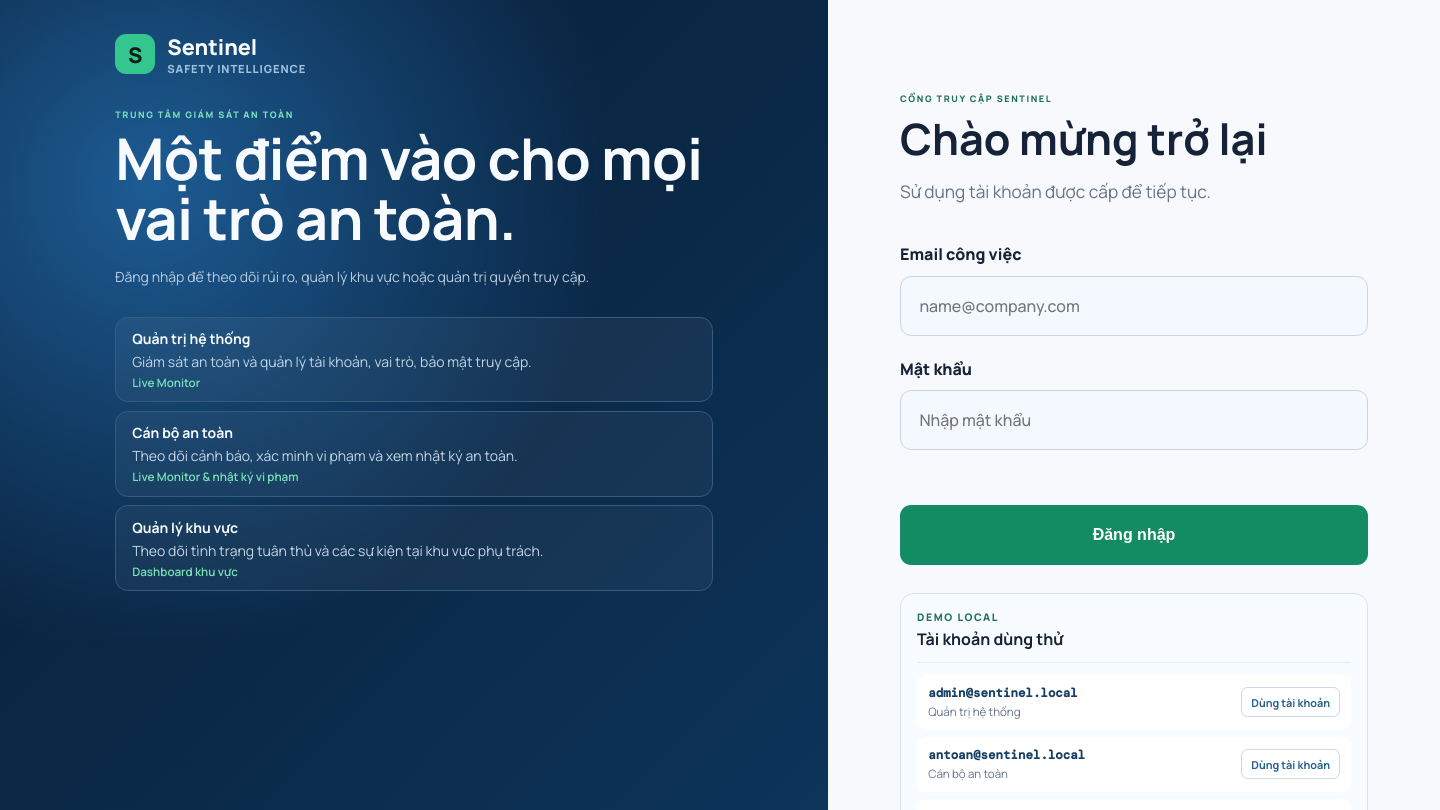
Test case: Sentinel authentication › opens the tabbed system administration page for a system admin
Expected: the button "Đăng nhập" is shown, [900,505,1368,565]
Type "admin@sentinel.local" into the field labelled "Email công việc" at (1134, 306), box [900,276,1368,336]
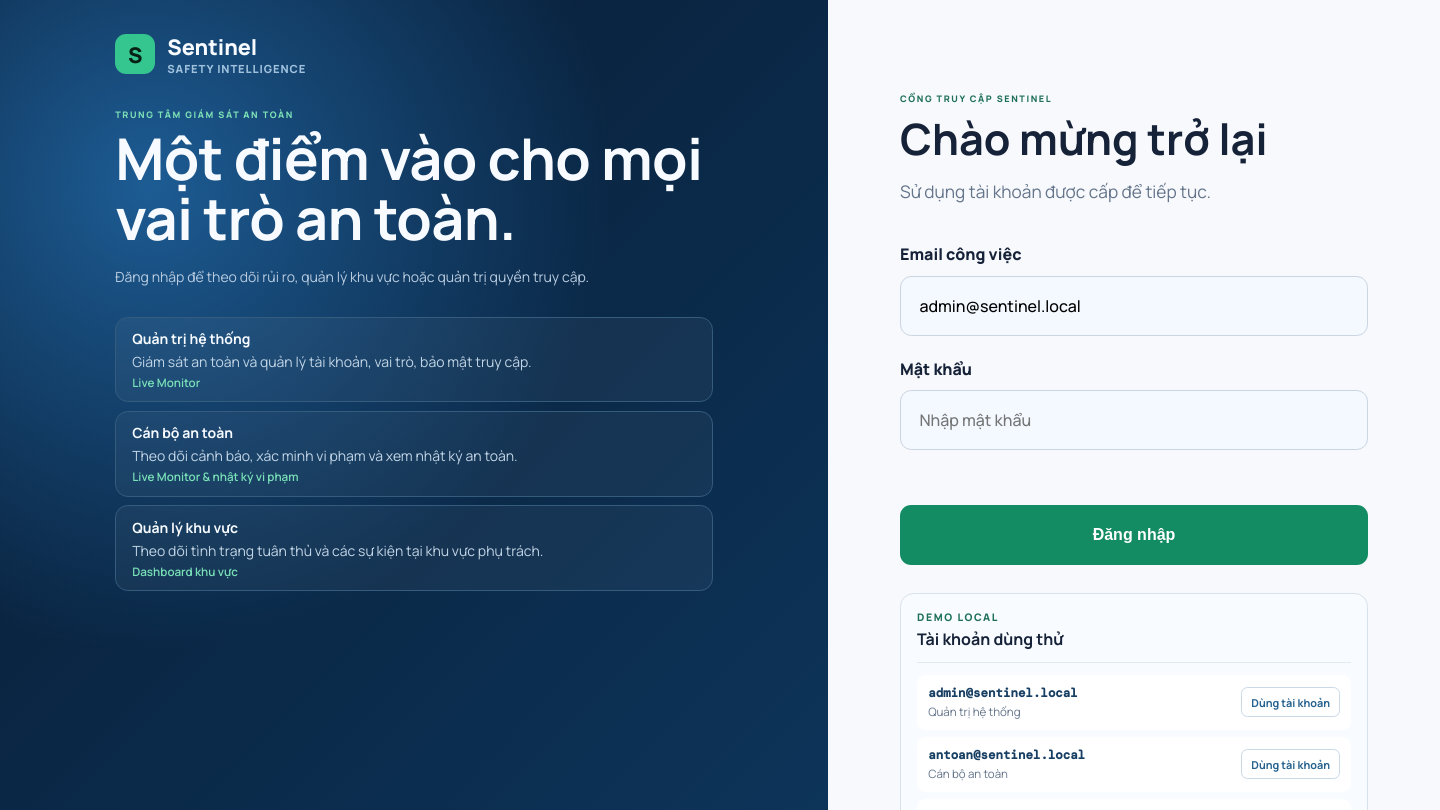
Type "Sentinel123!" into the password field labelled "Mật khẩu" at (1134, 420), box [900,390,1368,450]
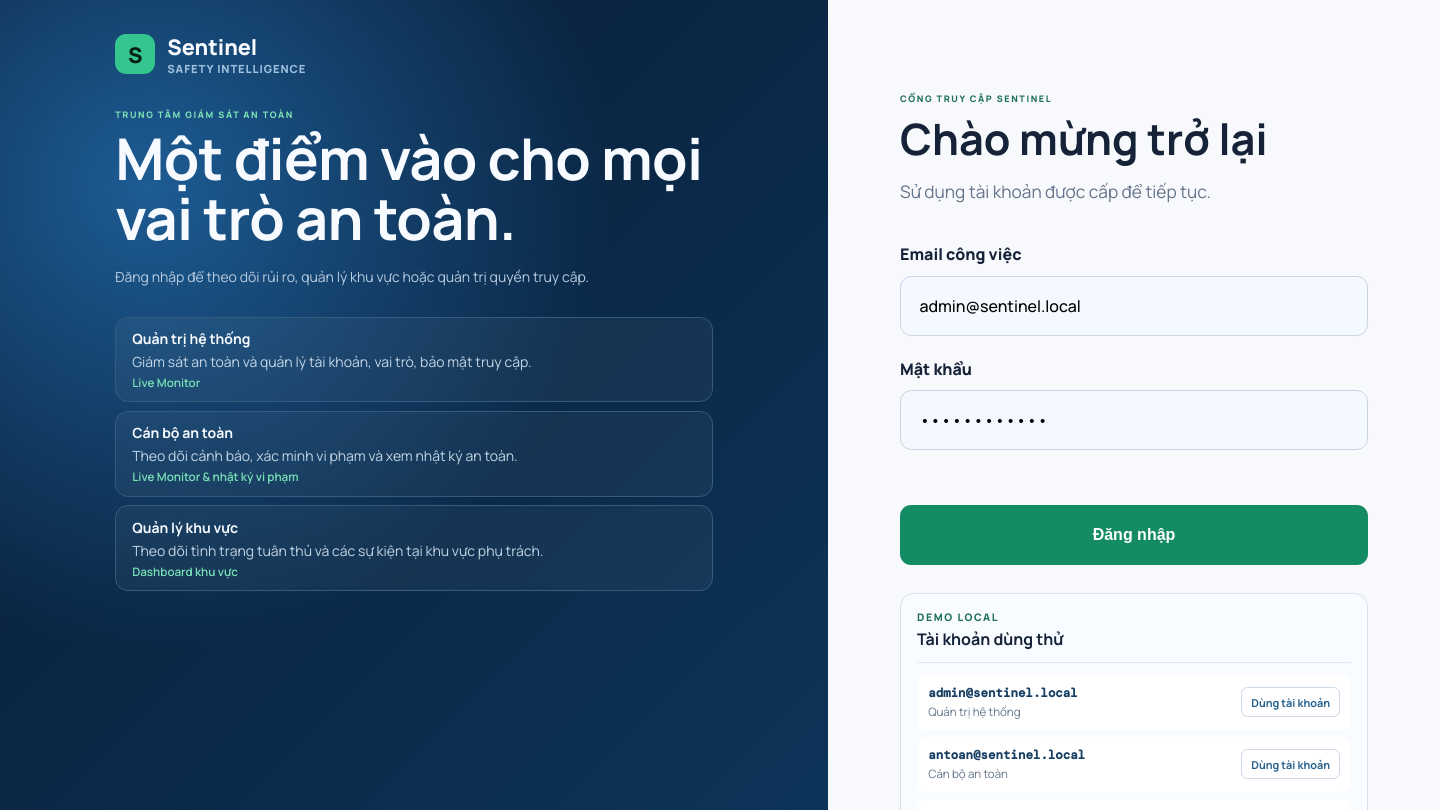
Click the button "Đăng nhập" at (1134, 535), box [900,505,1368,565]
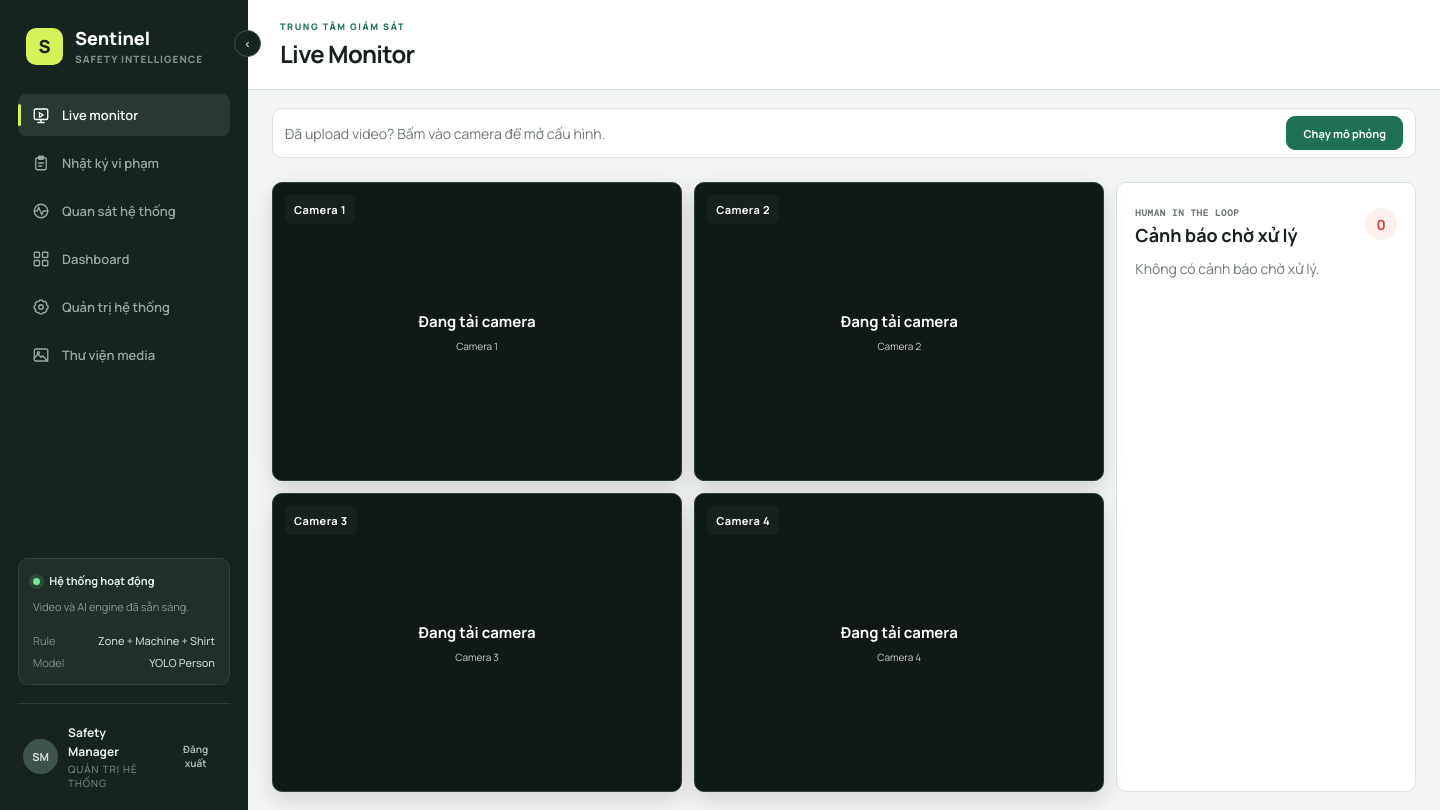
Now the heading "Live Monitor" is shown, box [280,36,414,70]
Now the button "Thư viện media" is shown, box [18,334,230,376]
Now the button "Quan sát hệ thống" is shown, box [18,190,230,232]
Click the button "Quản trị hệ thống" at (124, 307), box [18,286,230,328]
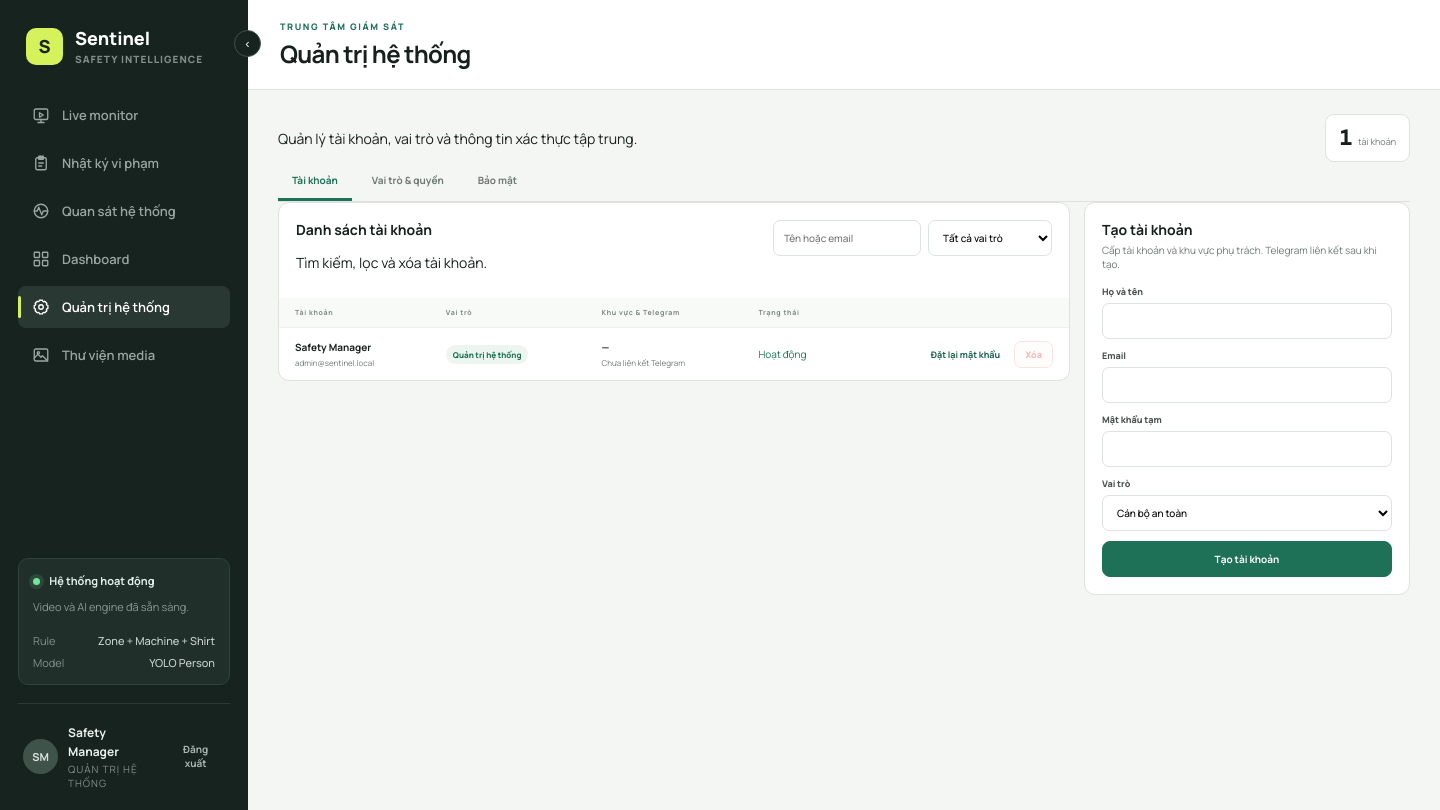
Now the tab "Tài khoản" is shown, box [278,162,352,201]
Now the tab "Vai trò & quyền" is shown, box [358,162,458,201]
Now the tab "Bảo mật" is shown, box [464,162,531,201]
Click the button "Live monitor" at (124, 115), box [18,94,230,136]
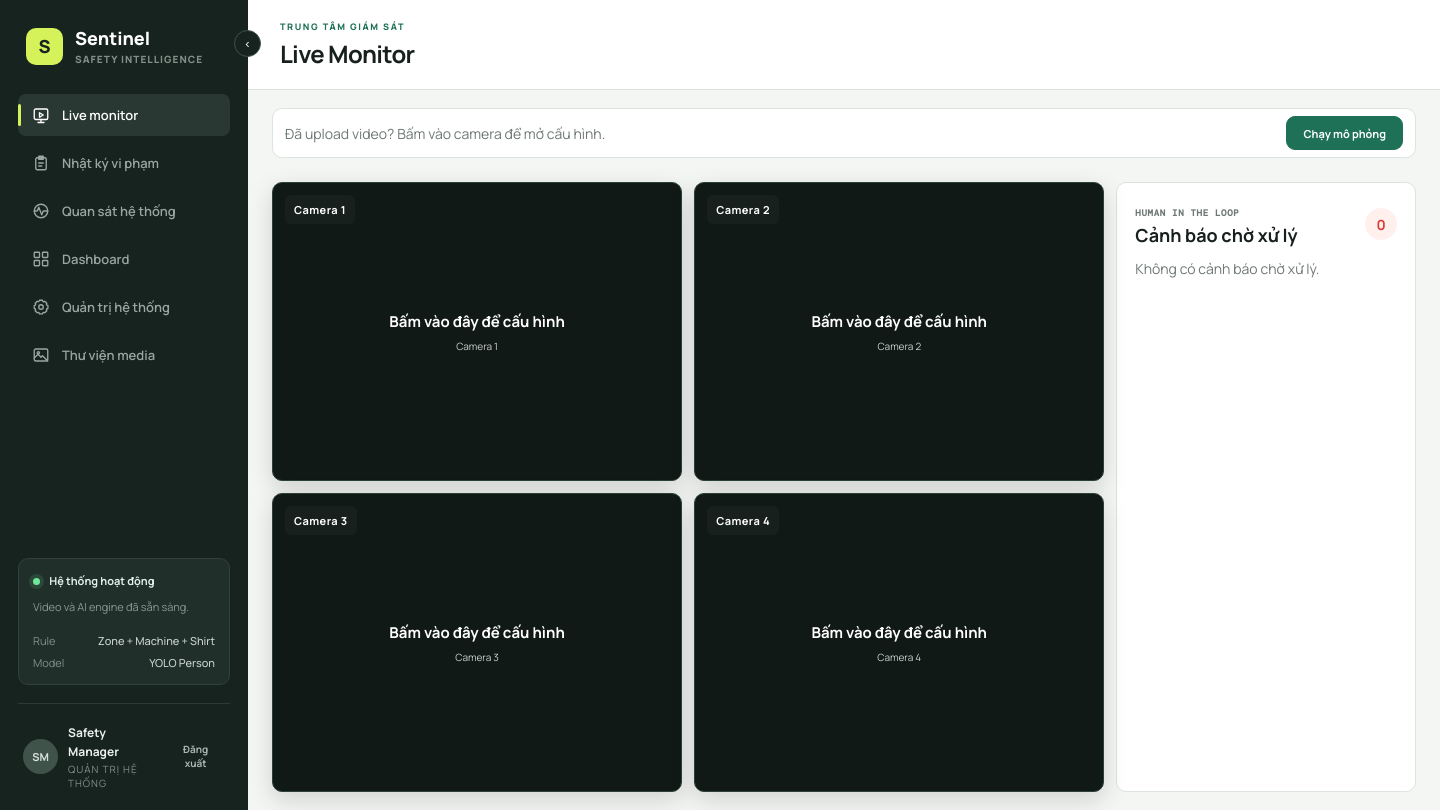
Now the heading "Live Monitor" is shown, box [280,36,414,70]
Now the heading "Camera 1" is shown, box [285,195,355,224]
Now the button "Chạy mô phỏng" is shown, box [1286,116,1403,150]
